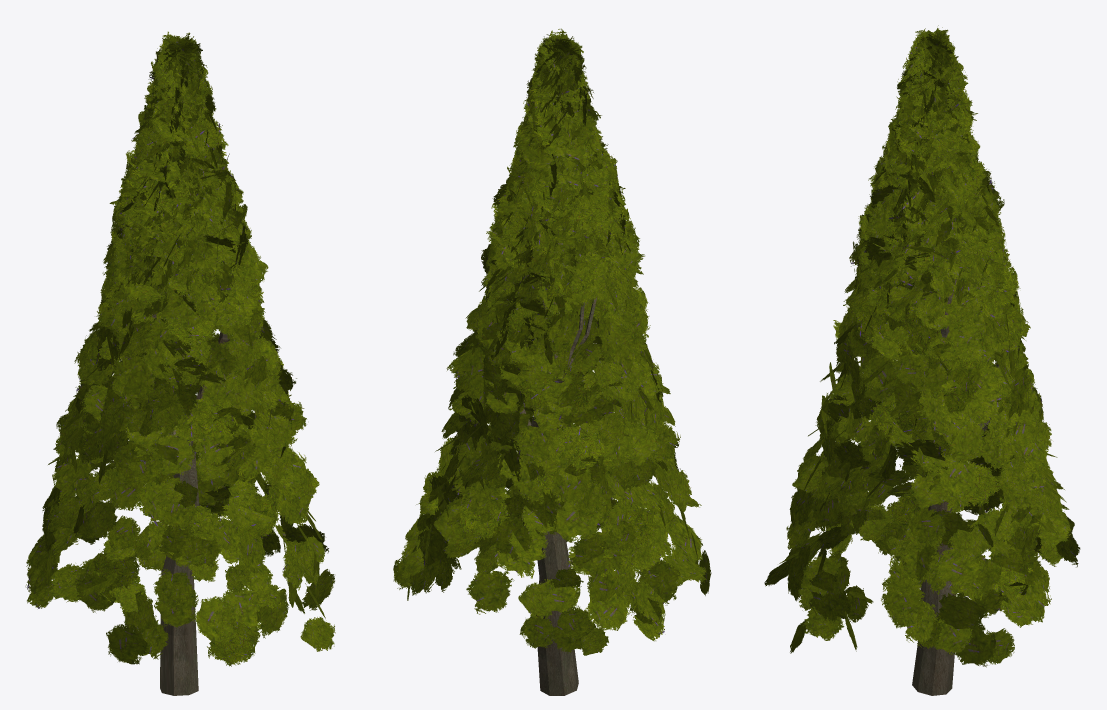
The model's file is tree_conifer_01.fbx.
3 views of the same model, side by side, from view 1: azimuth 30°, elevation 25°; view 2: azimuth 150°, elevation 25°; view 3: azimuth 270°, elevation 25° (orthographic).
Visible parts, largest first — view 1: tree_conifer_01_LOD0; view 2: tree_conifer_01_LOD0; view 3: tree_conifer_01_LOD0.
Boxes of the visible parts, x1,y1,x2,y2 form: tree_conifer_01_LOD0: [25, 31, 335, 695]; tree_conifer_01_LOD0: [393, 28, 711, 695]; tree_conifer_01_LOD0: [764, 25, 1080, 695].
Size of what is drawn, in the model's own units: 6.55 by 14.04 by 6.53.
